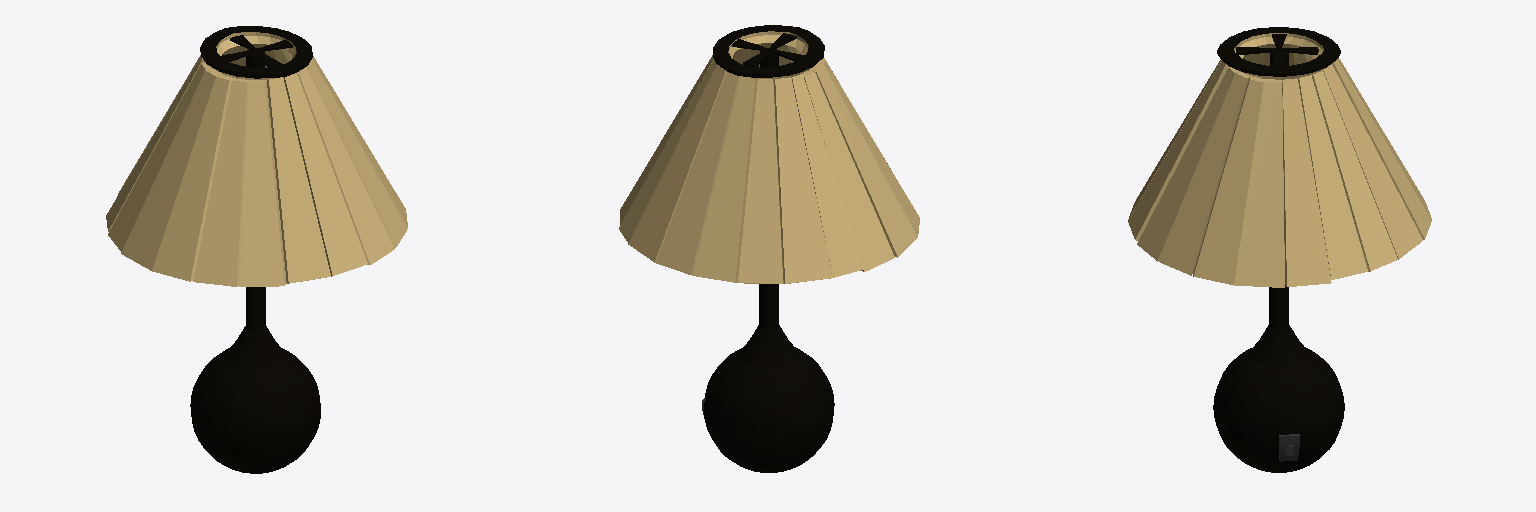
File: Additive_Lamp_Mesh.obj
The picture shows the model from 3 angles: view 1: azimuth 30°, elevation 25°; view 2: azimuth 150°, elevation 25°; view 3: azimuth 270°, elevation 25°; orthographic projection.
Visible parts, largest first — view 1: polySurface2 pSphere2, pSphere2 polySurface1; view 2: polySurface2 pSphere2, pSphere2 polySurface1; view 3: polySurface2 pSphere2, pSphere2 polySurface1.
Part boxes in pixels (x1,y1,x2,y2): polySurface2 pSphere2: (106,26,407,286); pSphere2 polySurface1: (190,35,320,473); polySurface2 pSphere2: (619,25,919,283); pSphere2 polySurface1: (702,33,834,472); polySurface2 pSphere2: (1128,27,1431,287); pSphere2 polySurface1: (1213,34,1344,472).
Size of the model in its own units: 7.17 by 10.68 by 7.13.